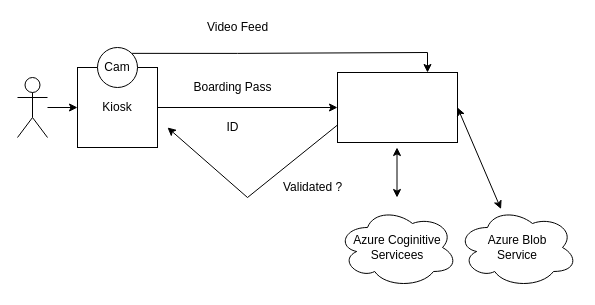
Image size: 595x305. Some labels were removed from this diagram. The box of each missing label's shape, as (x1, y1, x2, y2) in pixels:
Actor: (16, 76, 48, 138)
Validation Service: (336, 72, 458, 142)
